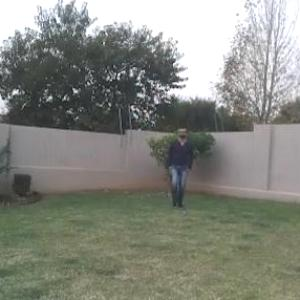follow: (167, 121, 193, 209)
